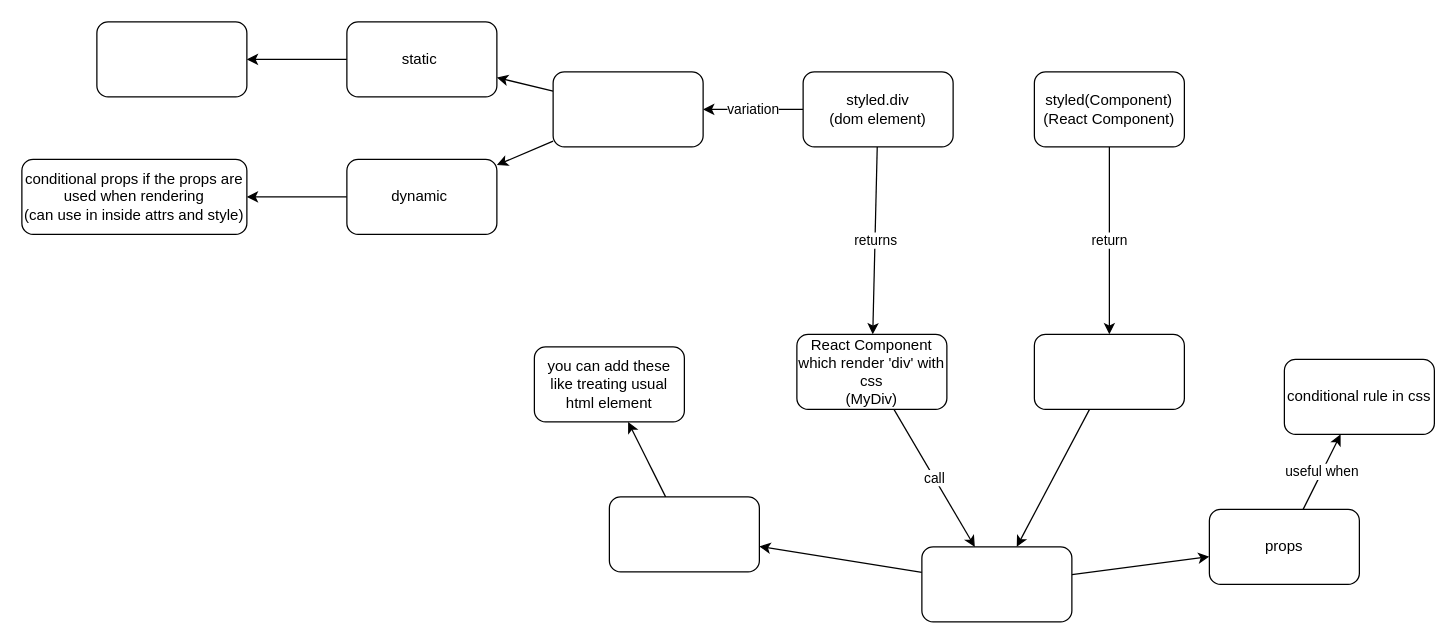
Image size: 1456x644. Some labels were removed from this diagram. The shapes that lost their labels are listed below. From the top down, each one's centre as x and y in pixels, then its label:
the point at 171,59: you can pass props or attributes
the point at 627,109: styled.div.attrs
the point at 1108,371: React Component wrapped the style
the point at 683,534: html attributes
the point at 996,584: <MyDiv props or html attibutes>
